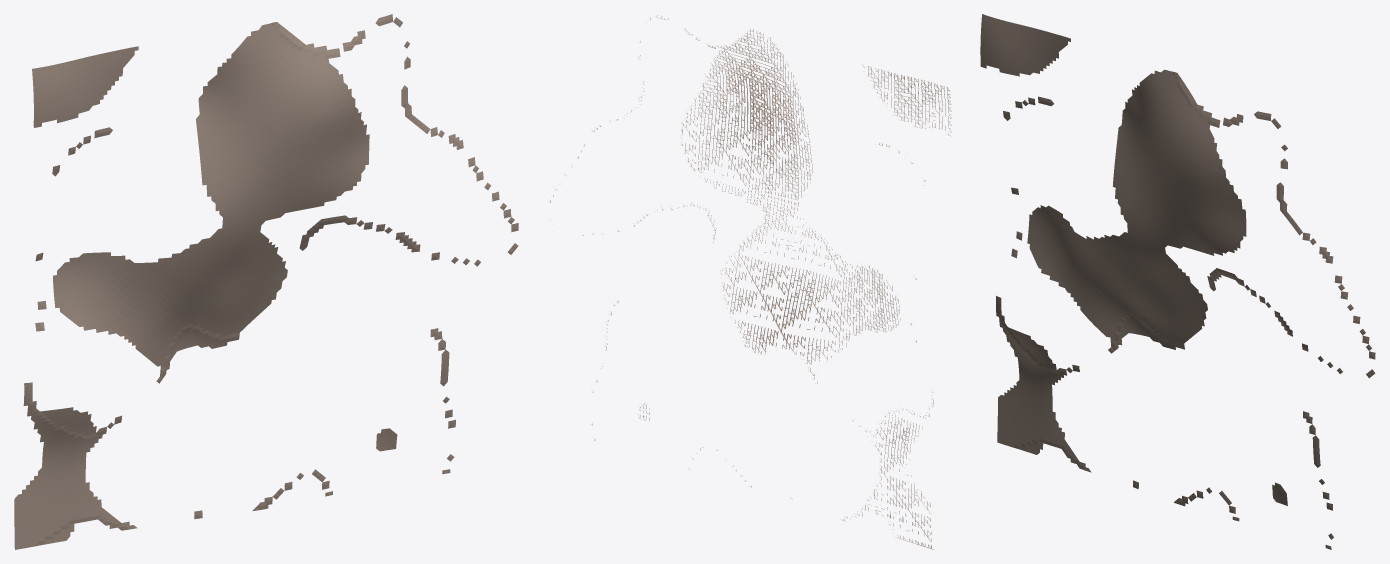
The picture shows the model from 3 angles, left to right: view 1: azimuth 30°, elevation 25°; view 2: azimuth 150°, elevation 25°; view 3: azimuth 330°, elevation 25°; orthographic projection. The views are drawn at different scales.
Parts seen in each view (by area): view 1: world; view 2: world; view 3: world.
Boxes of the visible parts, left/top/right/bottom form: world: left=14, top=14, right=518, bottom=549; world: left=549, top=15, right=951, bottom=549; world: left=980, top=14, right=1375, bottom=549.
Bounding box in the file's own units: 12600 × 12800 × 2032.
